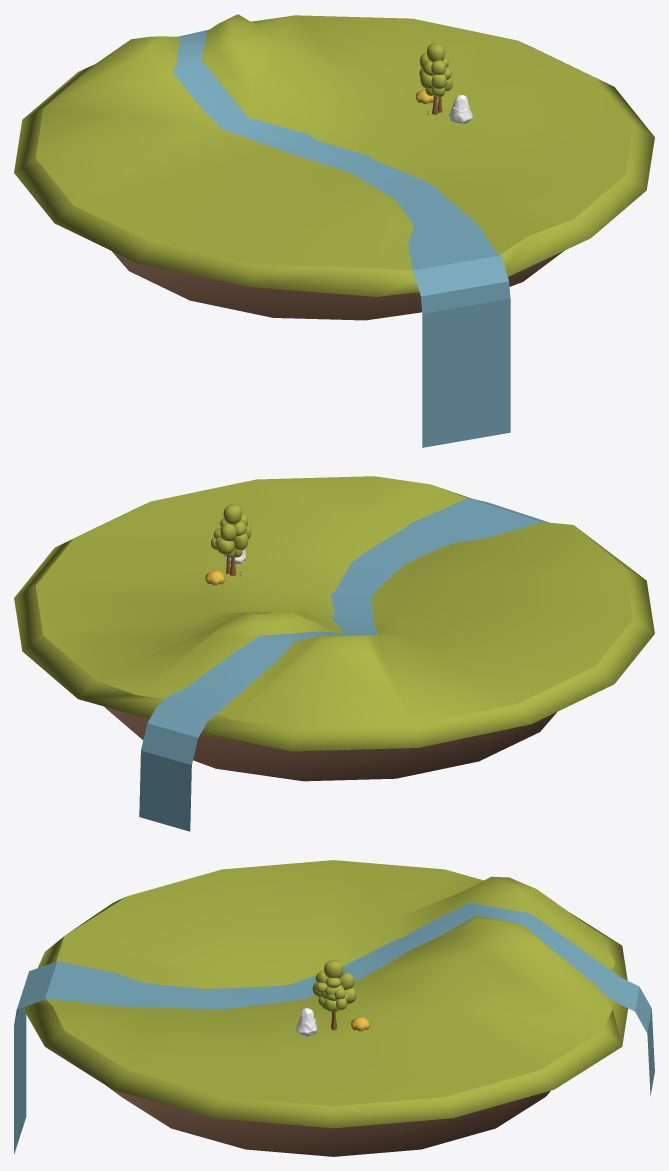
Rendered from 2100-map__V1.glb.
3 views of the same model, one above another, from view 1: azimuth 30°, elevation 25°; view 2: azimuth 150°, elevation 25°; view 3: azimuth 270°, elevation 25° (orthographic). The views are drawn at different scales.
Visible parts, largest first — view 1: Map, Rivière, best; view 2: Map, Rivière, best; view 3: Map, Rivière, best, normal.
Part boxes in pixels (x1,y1,x2,y2): Map: [14, 14, 654, 320]; Rivière: [173, 29, 510, 447]; best: [419, 43, 451, 114]; Map: [14, 476, 654, 781]; Rivière: [139, 497, 549, 831]; best: [216, 504, 251, 575]; Map: [23, 860, 628, 1156]; Rivière: [14, 902, 654, 1154]; best: [312, 960, 356, 1027]; normal: [318, 988, 348, 1030].
Size of the model in its own units: 1992 by 833 by 2043.
1 material, 1 textured.
